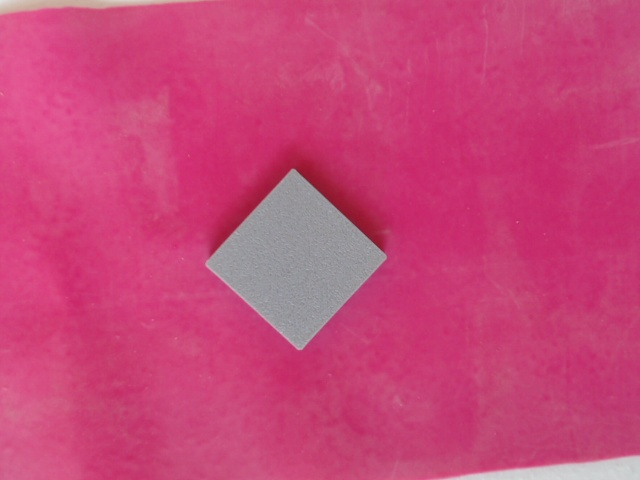Defective: (200, 163, 393, 363)
